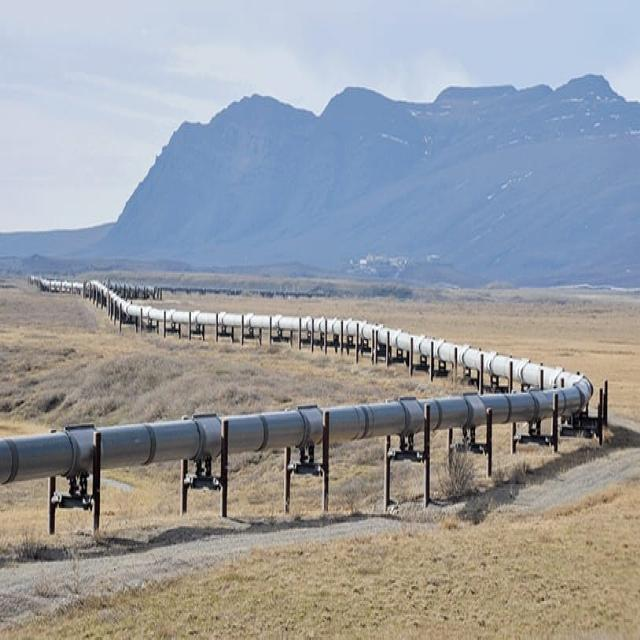gas: (30, 276, 584, 391), (101, 376, 591, 468), (0, 427, 95, 483), (484, 350, 584, 388), (434, 338, 479, 371), (389, 332, 409, 351), (414, 337, 431, 359)
